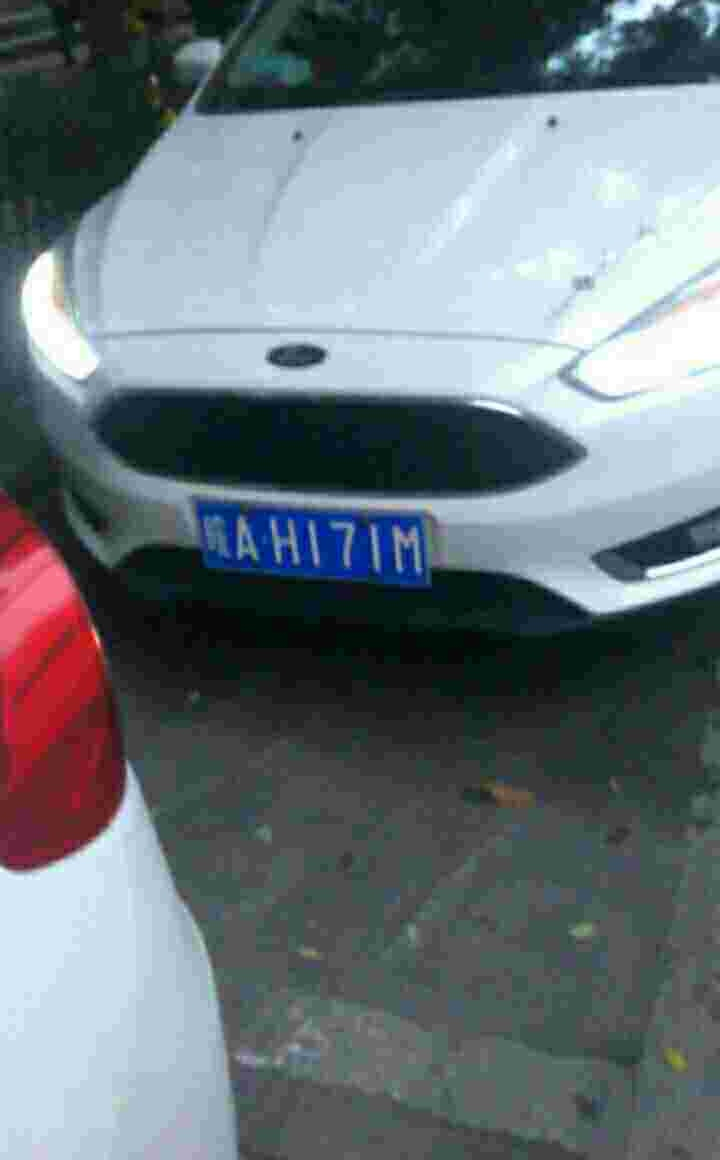plate: (190, 496, 438, 589)
